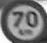Speed limit: (3, 1, 43, 37)
